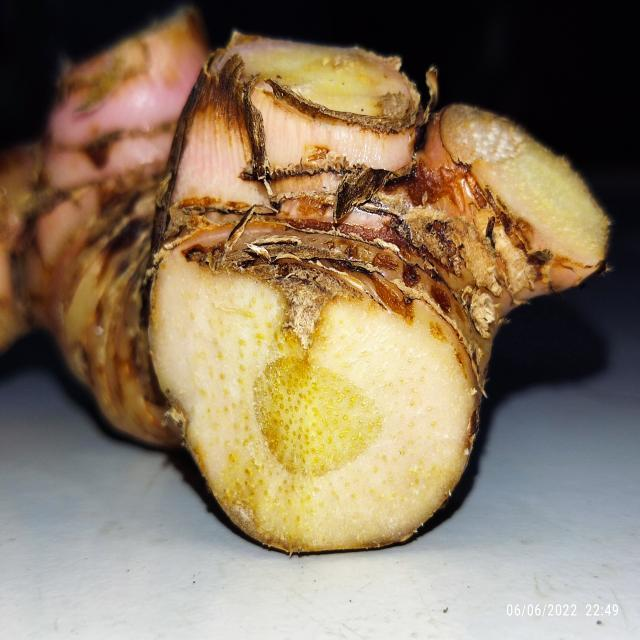ginger: (0, 10, 624, 580)
